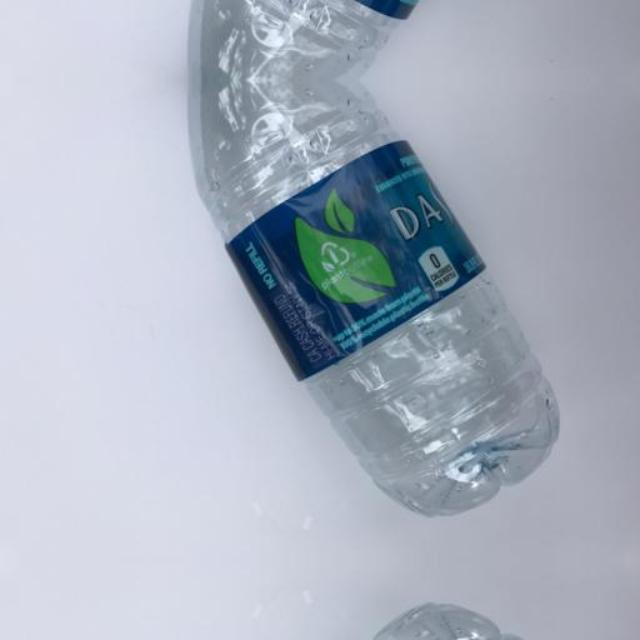Plastic: (158, 81, 602, 528), (158, 0, 601, 78), (158, 591, 601, 640)
